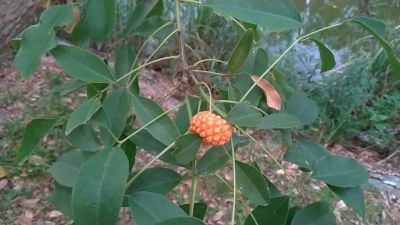eggs: (190, 111, 232, 148)
